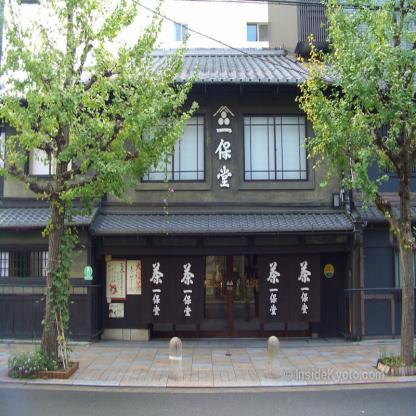Blind: (259, 255, 322, 324), (142, 255, 205, 324)
Building Outline: (50, 46, 389, 341)
Door: (199, 255, 261, 337)
Facade: (107, 85, 343, 340)
Ground Floor: (107, 204, 356, 340)
Roof: (50, 46, 389, 89), (90, 200, 365, 236)
Shop: (213, 105, 235, 188), (106, 259, 126, 300), (126, 260, 141, 295), (109, 304, 124, 318)
Top Floor: (107, 85, 343, 198), (107, 198, 343, 204)
Window: (243, 114, 308, 182), (141, 114, 206, 182), (261, 255, 311, 338), (151, 255, 199, 338), (152, 237, 196, 246), (255, 237, 299, 246), (306, 236, 349, 245), (103, 237, 146, 246), (204, 237, 247, 246)
Window Outline: (238, 106, 314, 190), (136, 106, 211, 190)
